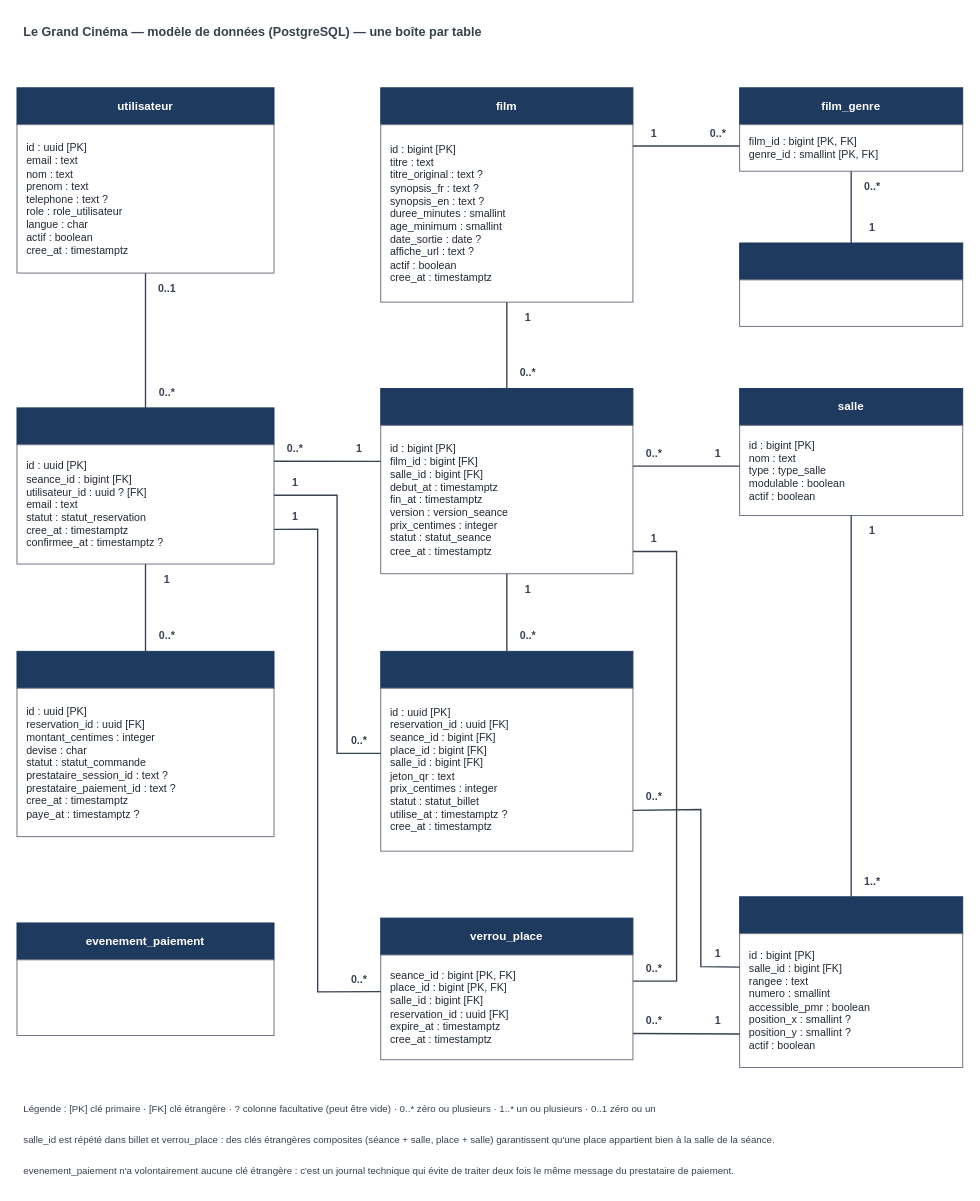
Some shapes in this 980 by 1201 pixel diagram are drawn without their labels. Each missing label, with the centre of its shape:
"billet" belongs at (x=506, y=669).
"commande" belongs at (x=145, y=669).
"genre" belongs at (x=851, y=261).
"id : smallint [PK] nom : text" belongs at (x=851, y=302).
"id : text [PK] type : text recu_at : timestamptz traite_at : timestamptz ?" belongs at (x=145, y=997).
"place" belongs at (x=851, y=915).
"reservation" belongs at (x=145, y=426).
"seance" belongs at (x=506, y=406).
